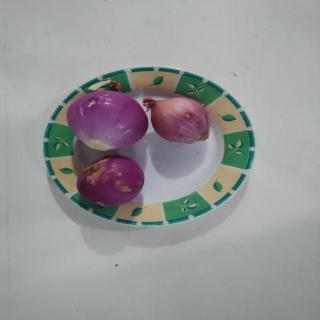Bawang Merah: (65, 88, 151, 154), (77, 155, 147, 207), (148, 94, 212, 145)
